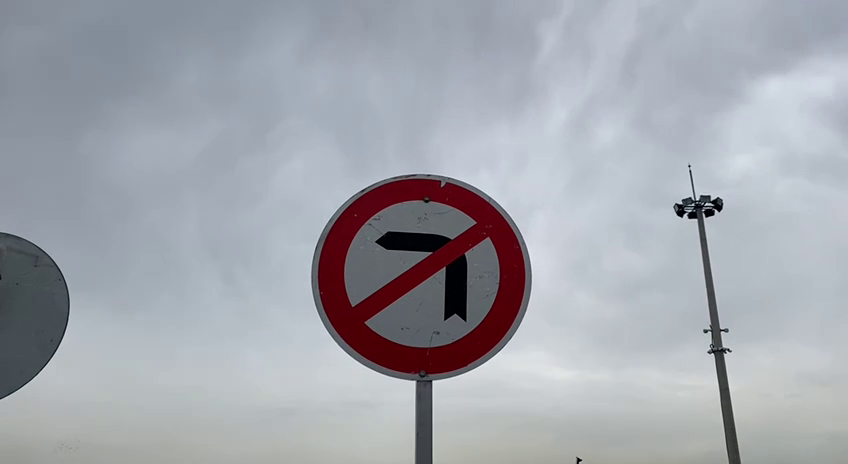noTurnLeft: (308, 170, 534, 383)
